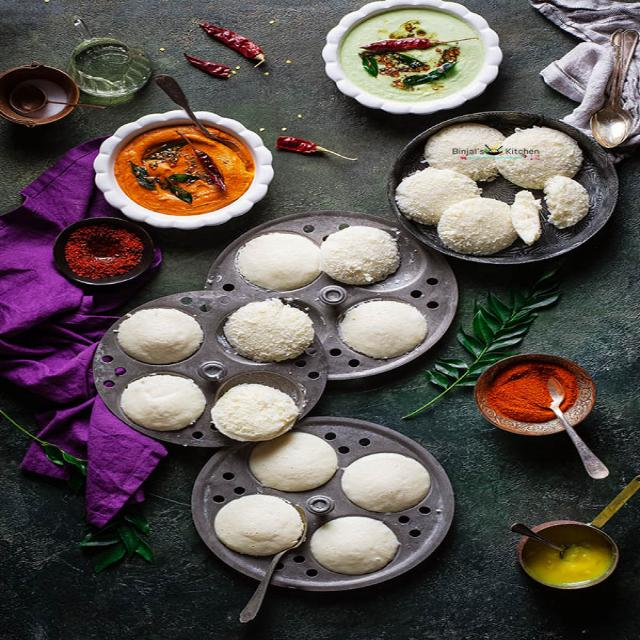IDLI: (210, 422, 449, 580), (99, 296, 319, 439), (398, 111, 609, 259), (243, 225, 434, 355)
